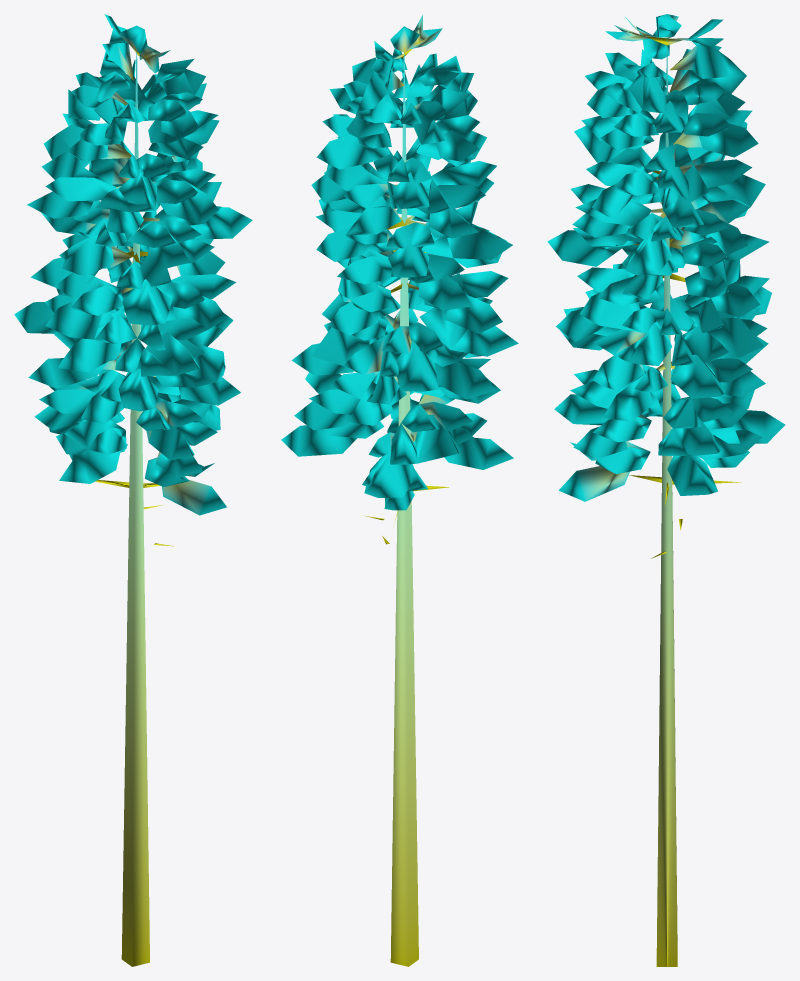
The model's file is pine_lod1.gltf.
3 renders of one model, left to right at view 1: azimuth 30°, elevation 25°; view 2: azimuth 150°, elevation 25°; view 3: azimuth 270°, elevation 25°, orthographic.
Visible parts, largest first — view 1: tree; view 2: tree; view 3: tree.
Part boxes in pixels (x1,y1,x2,y2): tree: (14, 14, 252, 966); tree: (281, 15, 518, 966); tree: (547, 14, 785, 966).
Size of the model in its own units: 4.54 by 19.9 by 4.53.
